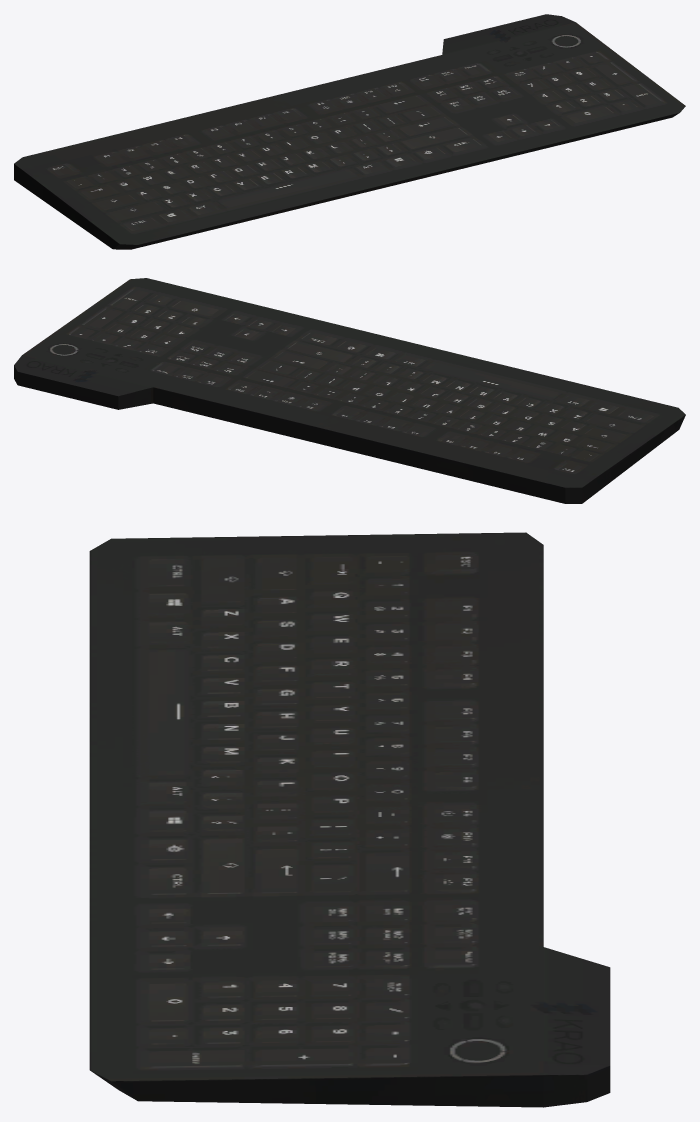
Rendered from SM_Teacher_Keyboard.FBX.
3 views of the same model, one above another, from view 1: azimuth 30°, elevation 25°; view 2: azimuth 150°, elevation 25°; view 3: azimuth 270°, elevation 25° (orthographic). The views are drawn at different scales.
Visible parts, largest first — view 1: SM_Teacher_Keyboard; view 2: SM_Teacher_Keyboard; view 3: SM_Teacher_Keyboard.
Part boxes in pixels (x1,y1,x2,y2): SM_Teacher_Keyboard: (14,14,685,249); SM_Teacher_Keyboard: (14,278,685,503); SM_Teacher_Keyboard: (89,532,610,1107).
Size of the model in its own units: 70.28 by 28.5 by 1.96.
